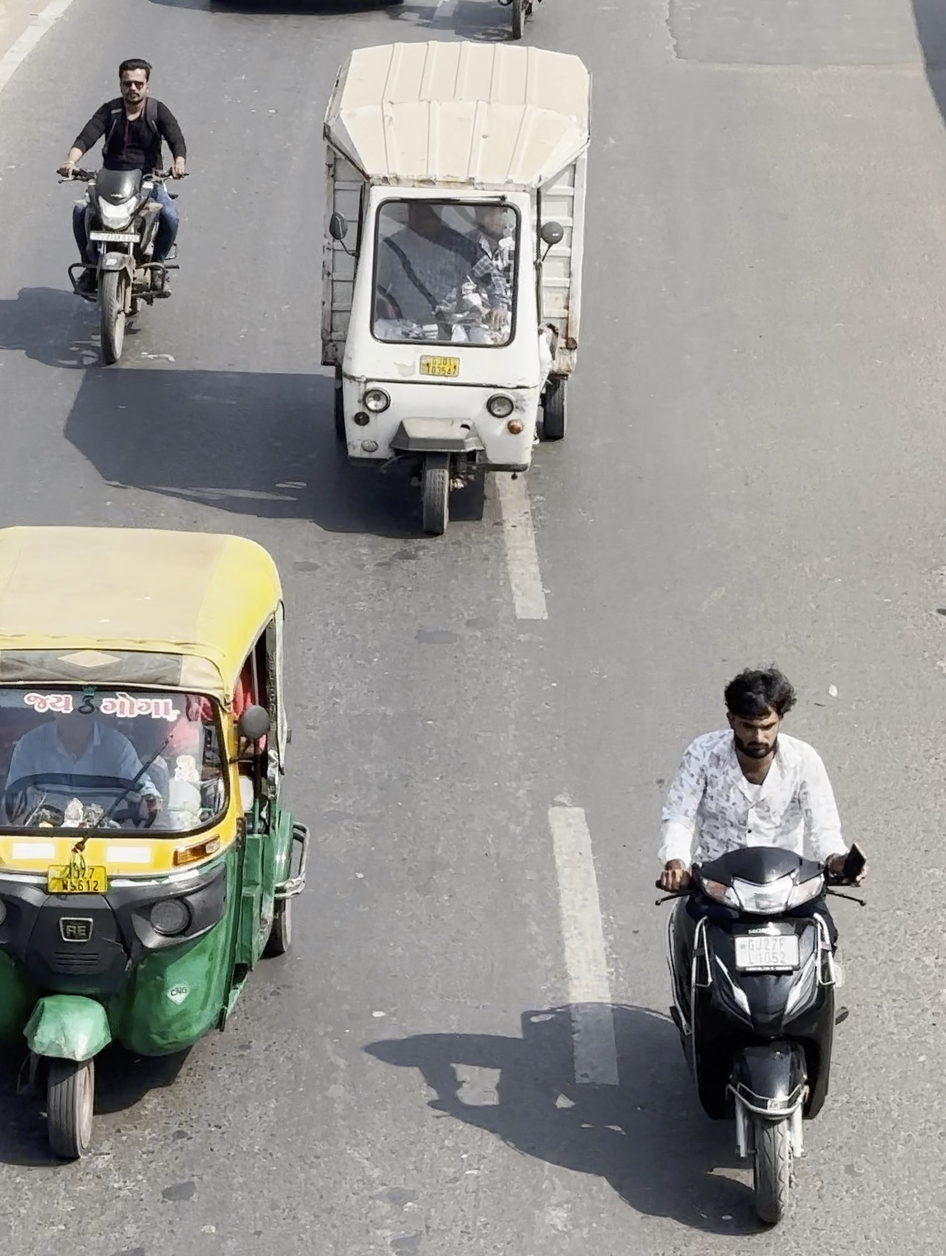BikeWithRider: (648, 662, 875, 1230), (50, 55, 199, 370)
NoHelmet: (723, 665, 800, 765), (114, 55, 157, 111)
